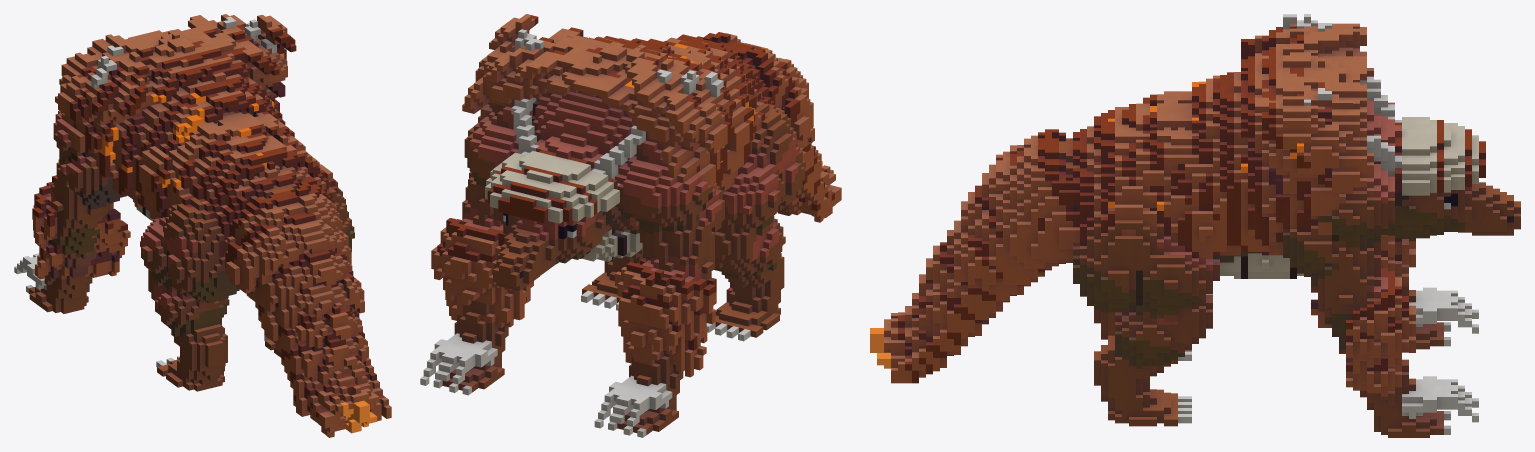
Rendered from Kobold.glb.
3 views of the same model, side by side, from view 1: azimuth 30°, elevation 25°; view 2: azimuth 150°, elevation 25°; view 3: azimuth 270°, elevation 25° (orthographic). The views are drawn at different scales.
Visible parts, largest first — view 1: Body__Tex, Body__Tex2, Tail1__Tex, ArmL2__Tex, LegBL1__Tex, Tail2__Tex, Tail3__Tex, ArmL1__Tex, LegBL3__Tex, LegBL2__Tex, Tail5__Tex, Tail4__Tex (+4 smaller); view 2: Body__Tex2, Head__Tex, ArmL2__Tex, ArmL1__Tex, ArmR2__Tex, LegBL1__Tex, Body__Tex, ArmR3__Tex, ArmL3__Tex, Tail1__Tex, LegBL2__Tex, LegBL3__Tex (+5 smaller); view 3: Body__Tex, Body__Tex2, Head__Tex, LegBR1__Tex, Tail1__Tex, ArmR2__Tex, ArmR1__Tex, Tail2__Tex, LegBR2__Tex, ArmR3__Tex, LegBR3__Tex, Tail3__Tex (+4 smaller).
Boxes of the visible parts, box(x1,y1,x2,y2) form: Body__Tex: box(108, 35, 338, 257); Body__Tex2: box(55, 14, 295, 221); Tail1__Tex: box(224, 181, 351, 301); ArmL2__Tex: box(32, 175, 130, 279); LegBL1__Tex: box(140, 197, 239, 303); Tail2__Tex: box(251, 247, 364, 342); Tail3__Tex: box(275, 306, 368, 380); ArmL1__Tex: box(51, 110, 127, 212); LegBL3__Tex: box(156, 331, 227, 391); LegBL2__Tex: box(148, 269, 229, 348); Tail5__Tex: box(307, 373, 391, 437); Tail4__Tex: box(290, 353, 379, 416); Body__Tex2: box(462, 14, 735, 261); Head__Tex: box(485, 97, 645, 291); ArmL2__Tex: box(615, 247, 716, 377); ArmL1__Tex: box(615, 156, 724, 271); ArmR2__Tex: box(431, 208, 533, 328); LegBL1__Tex: box(721, 103, 805, 235); Body__Tex: box(529, 25, 774, 192); ArmR3__Tex: box(420, 310, 508, 395); ArmL3__Tex: box(594, 357, 683, 437); Tail1__Tex: box(696, 32, 813, 144); LegBL2__Tex: box(714, 216, 785, 288); LegBL3__Tex: box(706, 253, 784, 341); Body__Tex: box(1073, 35, 1268, 278); Body__Tex2: box(1262, 14, 1380, 278); Head__Tex: box(1360, 76, 1520, 241); LegBR1__Tex: box(1073, 208, 1219, 324); Tail1__Tex: box(982, 129, 1079, 269); ArmR2__Tex: box(1311, 268, 1415, 396); ArmR1__Tex: box(1283, 164, 1394, 288); Tail2__Tex: box(947, 185, 1051, 304); LegBR2__Tex: box(1108, 294, 1212, 382); ArmR3__Tex: box(1360, 372, 1478, 437); LegBR3__Tex: box(1094, 345, 1191, 426); Tail3__Tex: box(919, 242, 1016, 342).
Size of the model in its own units: 4.6 by 5.2 by 9.3.
